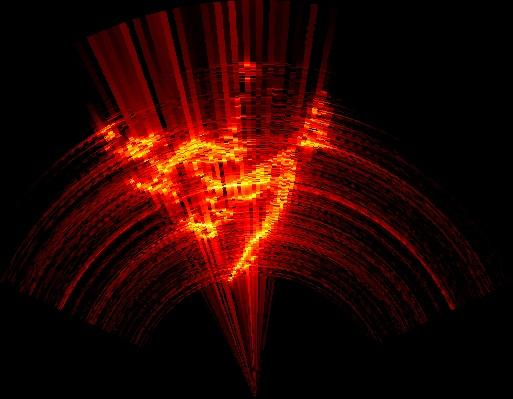shipwreck: (111, 103, 326, 278)
